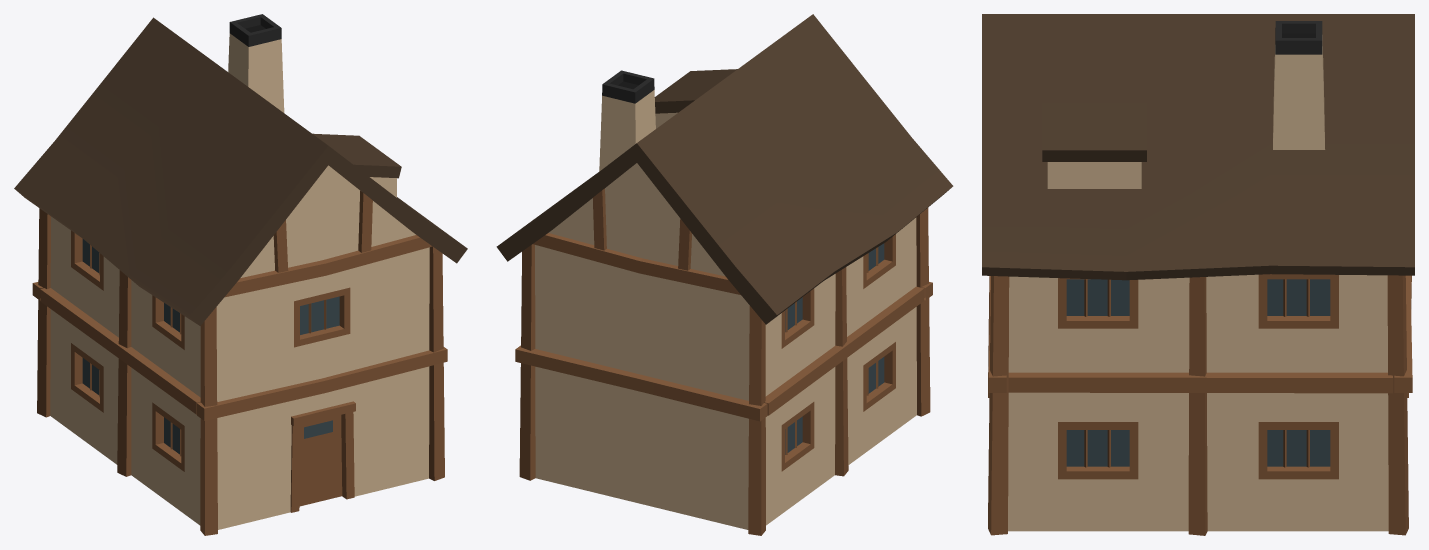
Rendered from medieval_house-medieval_medium.fbx.
The picture shows the model from 3 angles, left to right: view 1: azimuth 30°, elevation 25°; view 2: azimuth 150°, elevation 25°; view 3: azimuth 270°, elevation 25°; orthographic projection. The views are drawn at different scales.
Visible parts, largest first — view 1: medieval_house_medieval_medium; view 2: medieval_house_medieval_medium; view 3: medieval_house_medieval_medium.
Part boxes in pixels (<box>): medieval_house_medieval_medium: <box>14,14,467,535</box>; medieval_house_medieval_medium: <box>496,14,953,535</box>; medieval_house_medieval_medium: <box>982,14,1414,535</box>.
Bounding box in the file's own units: 158 × 200 × 168.
